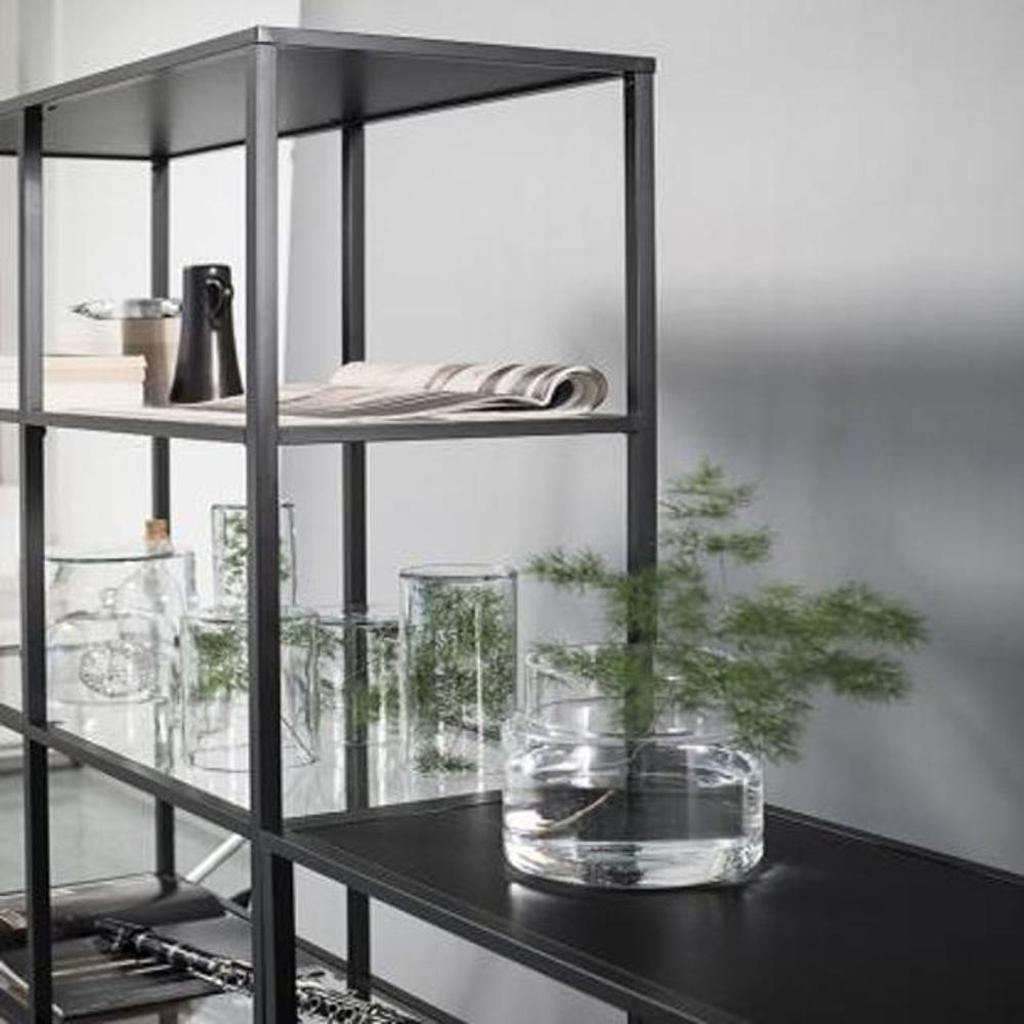lamp: (0, 16, 674, 1023)
